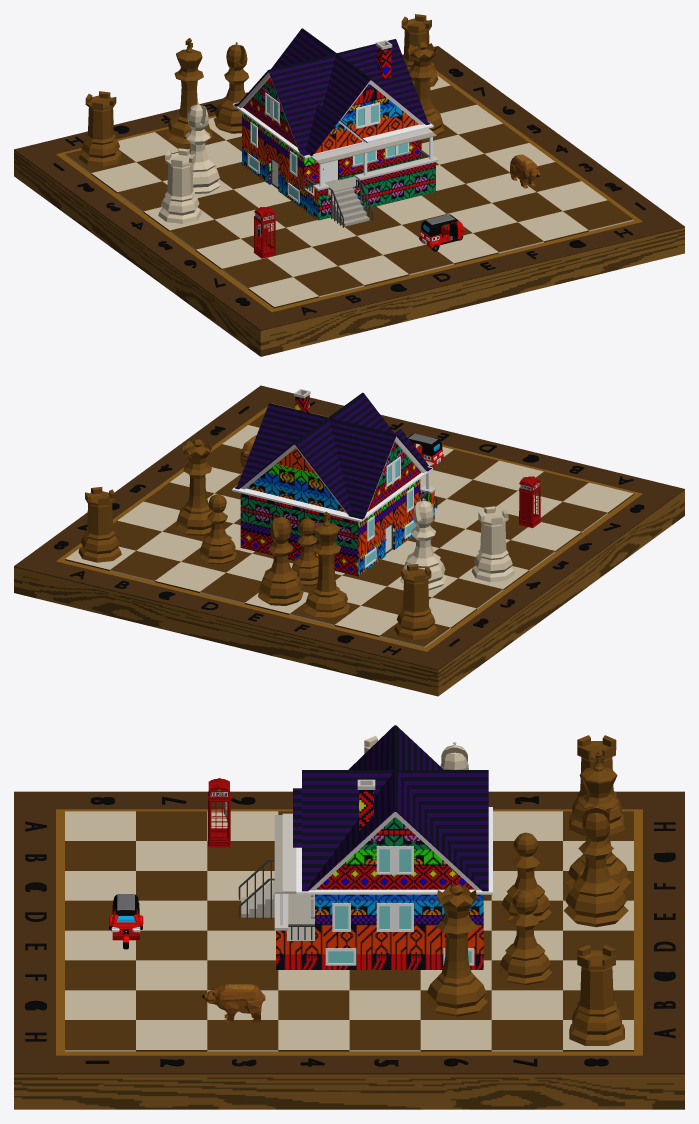
3 views of the same model, one above another, from view 1: azimuth 30°, elevation 25°; view 2: azimuth 150°, elevation 25°; view 3: azimuth 270°, elevation 25° (orthographic). The views are drawn at different scales.
Parts seen in each view (by area): view 1: Cube.002, Cube.966, VEHICLES_TUC_TUC, OBJRANDOM_PHONEBOOTH, ANIMAL_OSO; view 2: Cube.002, Cube.966, OBJRANDOM_PHONEBOOTH, VEHICLES_TUC_TUC; view 3: Cube.002, Cube.966, ANIMAL_OSO, VEHICLES_TUC_TUC, OBJRANDOM_PHONEBOOTH.
Boxes of the visible parts, x1,y1,x2,y2 form: Cube.002: [14, 14, 684, 356]; Cube.966: [232, 28, 438, 227]; VEHICLES_TUC_TUC: [419, 214, 465, 251]; OBJRANDOM_PHONEBOOTH: [253, 207, 275, 258]; ANIMAL_OSO: [510, 154, 540, 188]; Cube.002: [14, 385, 684, 696]; Cube.966: [232, 389, 437, 576]; OBJRANDOM_PHONEBOOTH: [518, 476, 541, 527]; VEHICLES_TUC_TUC: [408, 433, 444, 467]; Cube.002: [14, 735, 684, 1109]; Cube.966: [238, 725, 492, 969]; ANIMAL_OSO: [202, 984, 265, 1022]; VEHICLES_TUC_TUC: [109, 894, 143, 949]; OBJRANDOM_PHONEBOOTH: [208, 778, 230, 847].
Size of the model in its own units: 3981 by 1484 by 4012.
51 materials, 6 textured.
